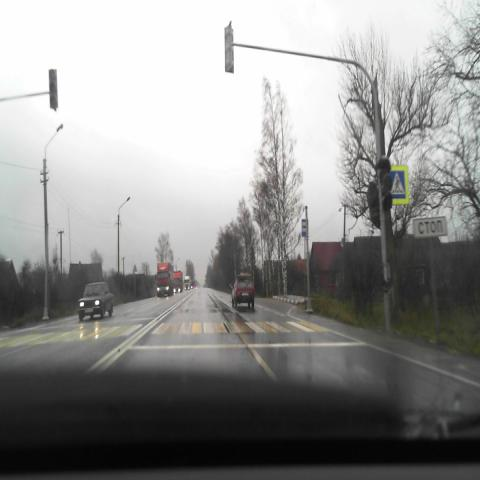6_16: (414, 216, 448, 239)
